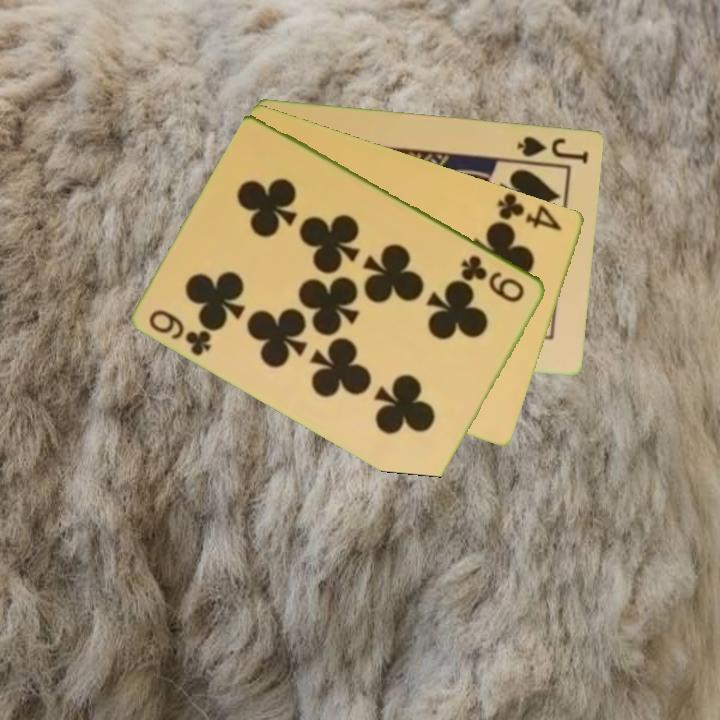4c: (494, 190, 565, 234)
9c: (458, 251, 528, 306), (145, 305, 215, 359)
Js: (514, 132, 592, 166)
